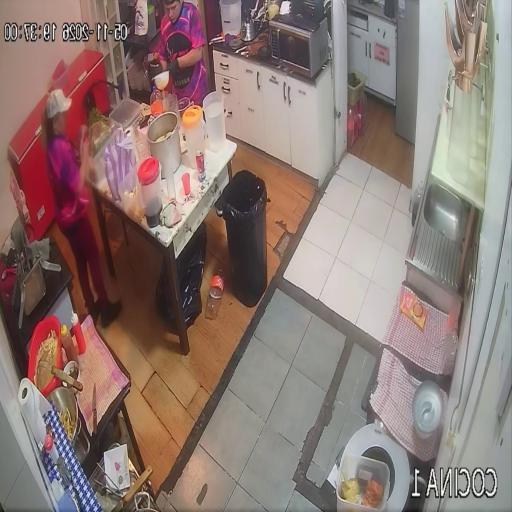Basurero: (222, 170, 267, 307)
Cuchillo1: (92, 383, 97, 434)
Envase Ketchup: (71, 312, 85, 353)
Envase Llajua: (61, 325, 78, 362)
Jarra1: (138, 157, 162, 227)
Jarra2: (182, 105, 205, 168)
Jarra3: (203, 91, 227, 152)
Microondas: (270, 14, 329, 77)
Persona1: (159, 0, 208, 103)
Persona2: (42, 90, 122, 326)
Tapa de olla: (412, 381, 444, 439)
Taper: (337, 453, 391, 512)
Taper2: (109, 99, 141, 130)
Taper3: (87, 126, 120, 183)
Vaso1: (182, 173, 190, 196)
olla1: (147, 111, 182, 179)
